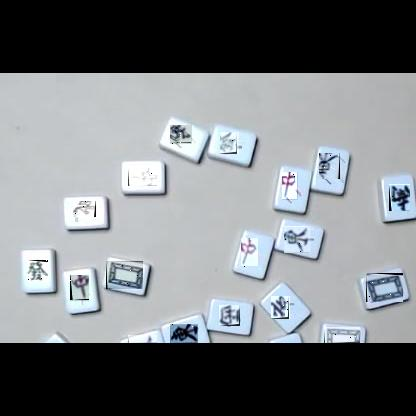1z: (285, 226, 314, 253), (320, 154, 345, 184), (170, 324, 198, 343), (128, 335, 157, 343)
2z: (389, 184, 410, 211), (171, 126, 196, 148)
3z: (219, 305, 240, 326)
4z: (272, 296, 294, 319), (73, 202, 96, 222)
5z: (366, 273, 403, 302), (106, 261, 143, 289), (324, 327, 360, 343)
6z: (221, 132, 242, 154), (27, 260, 48, 280)
7z: (242, 239, 262, 270), (128, 166, 157, 186), (70, 276, 89, 305), (283, 173, 301, 203)
